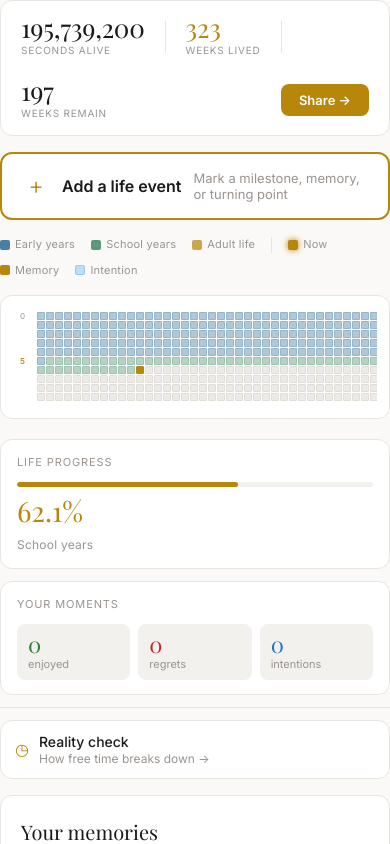
Test: Grid — add-by-date modal › shows event and sentiment fields for a past date
Click the button "Add a life event" at (195, 186), box [0,152,389,220]
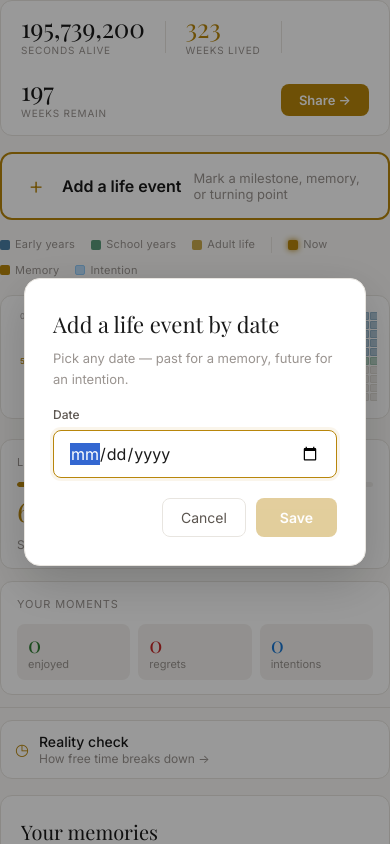
Type "2021-06-01" into the date field at (195, 454), box [53,430,337,478]
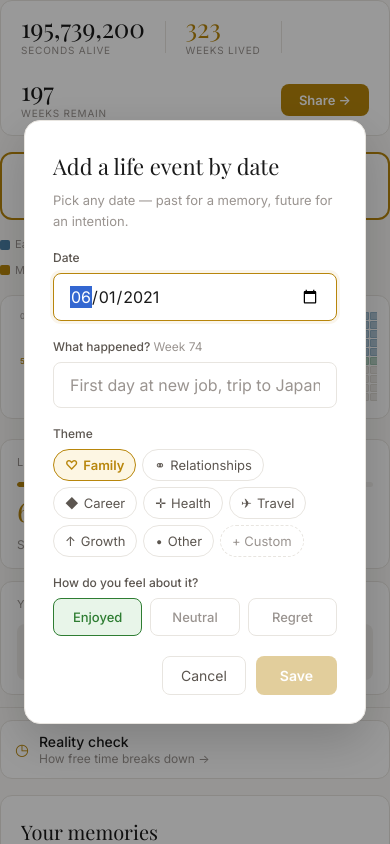
Now the field with placeholder "First day at new job, trip to Japan, Dad's birthday..." is shown, box [53,362,337,408]
